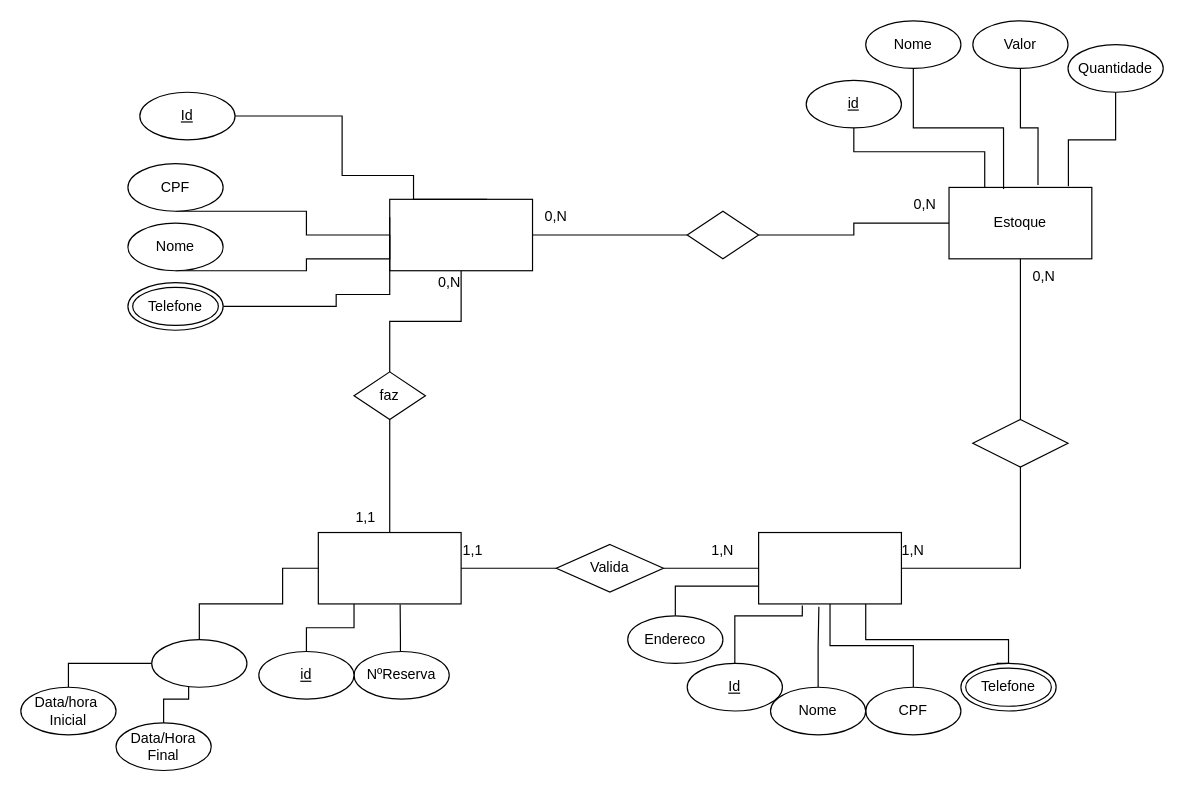
The diagram is 1184 pixels wide and 791 high, and some of its shapes have lost their labels. The centre of each missing label's shape, as x and y in pixels:
"Cliente" goes at (x=461, y=234).
"Entrega" goes at (x=722, y=234).
"Funcionario" goes at (x=829, y=567).
"Periodo de Locação" goes at (x=199, y=662).
"Reservas" goes at (x=389, y=567).
"Verifica" goes at (x=1020, y=442).
